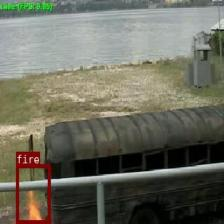fire: (15, 164, 50, 222)
